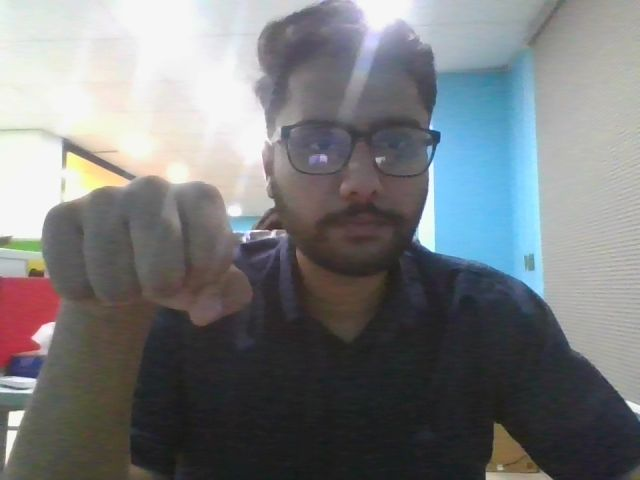yes: (29, 171, 265, 352)
